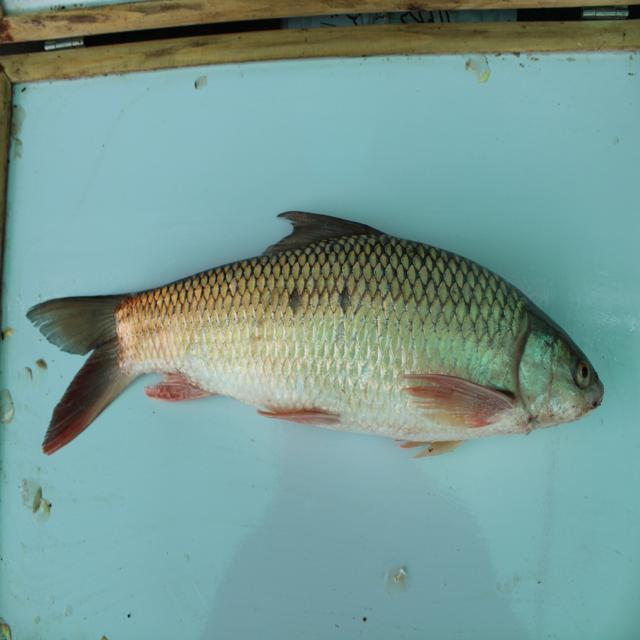Mori: (25, 208, 606, 479)
